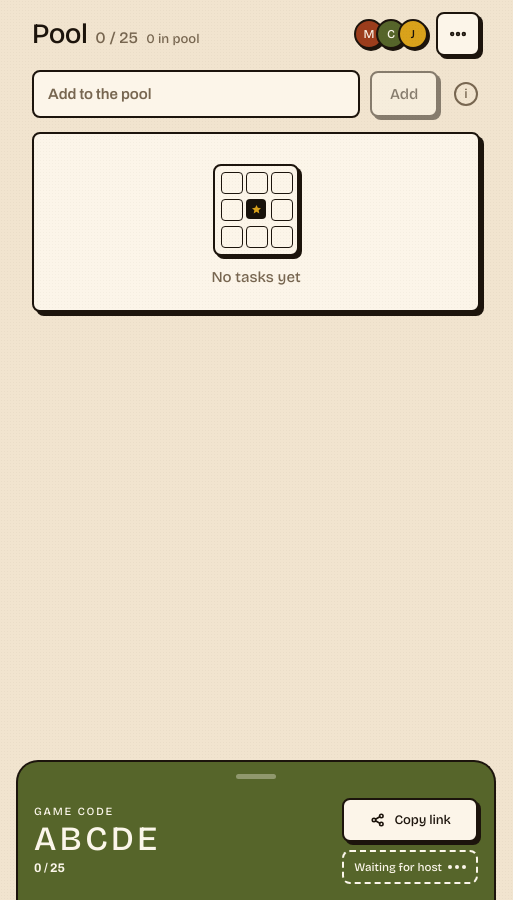
roster in the lobby › guest: the dashed chip and the tag are static and muted
Click the button named "3 players": (391, 34) [354,12,428,56]
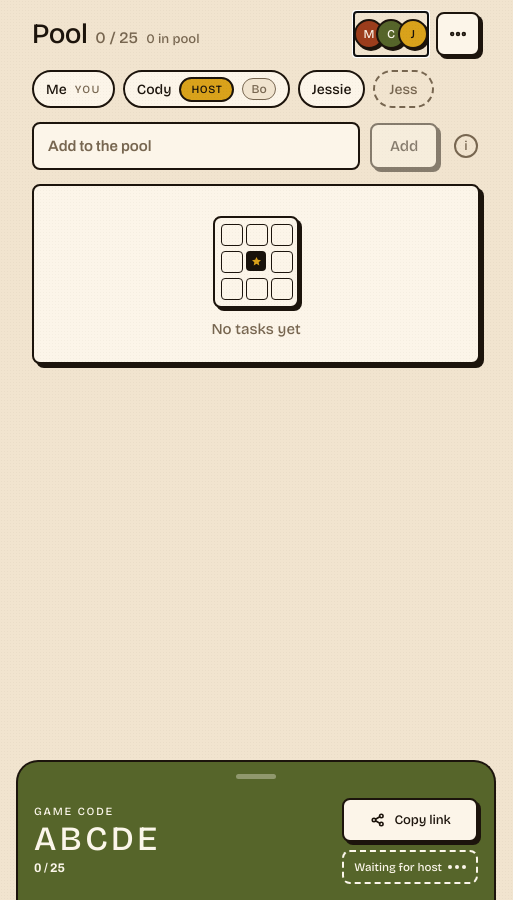
Result: the list item "Bo" reads "Cody Host Bo" at [123,70,290,108]
